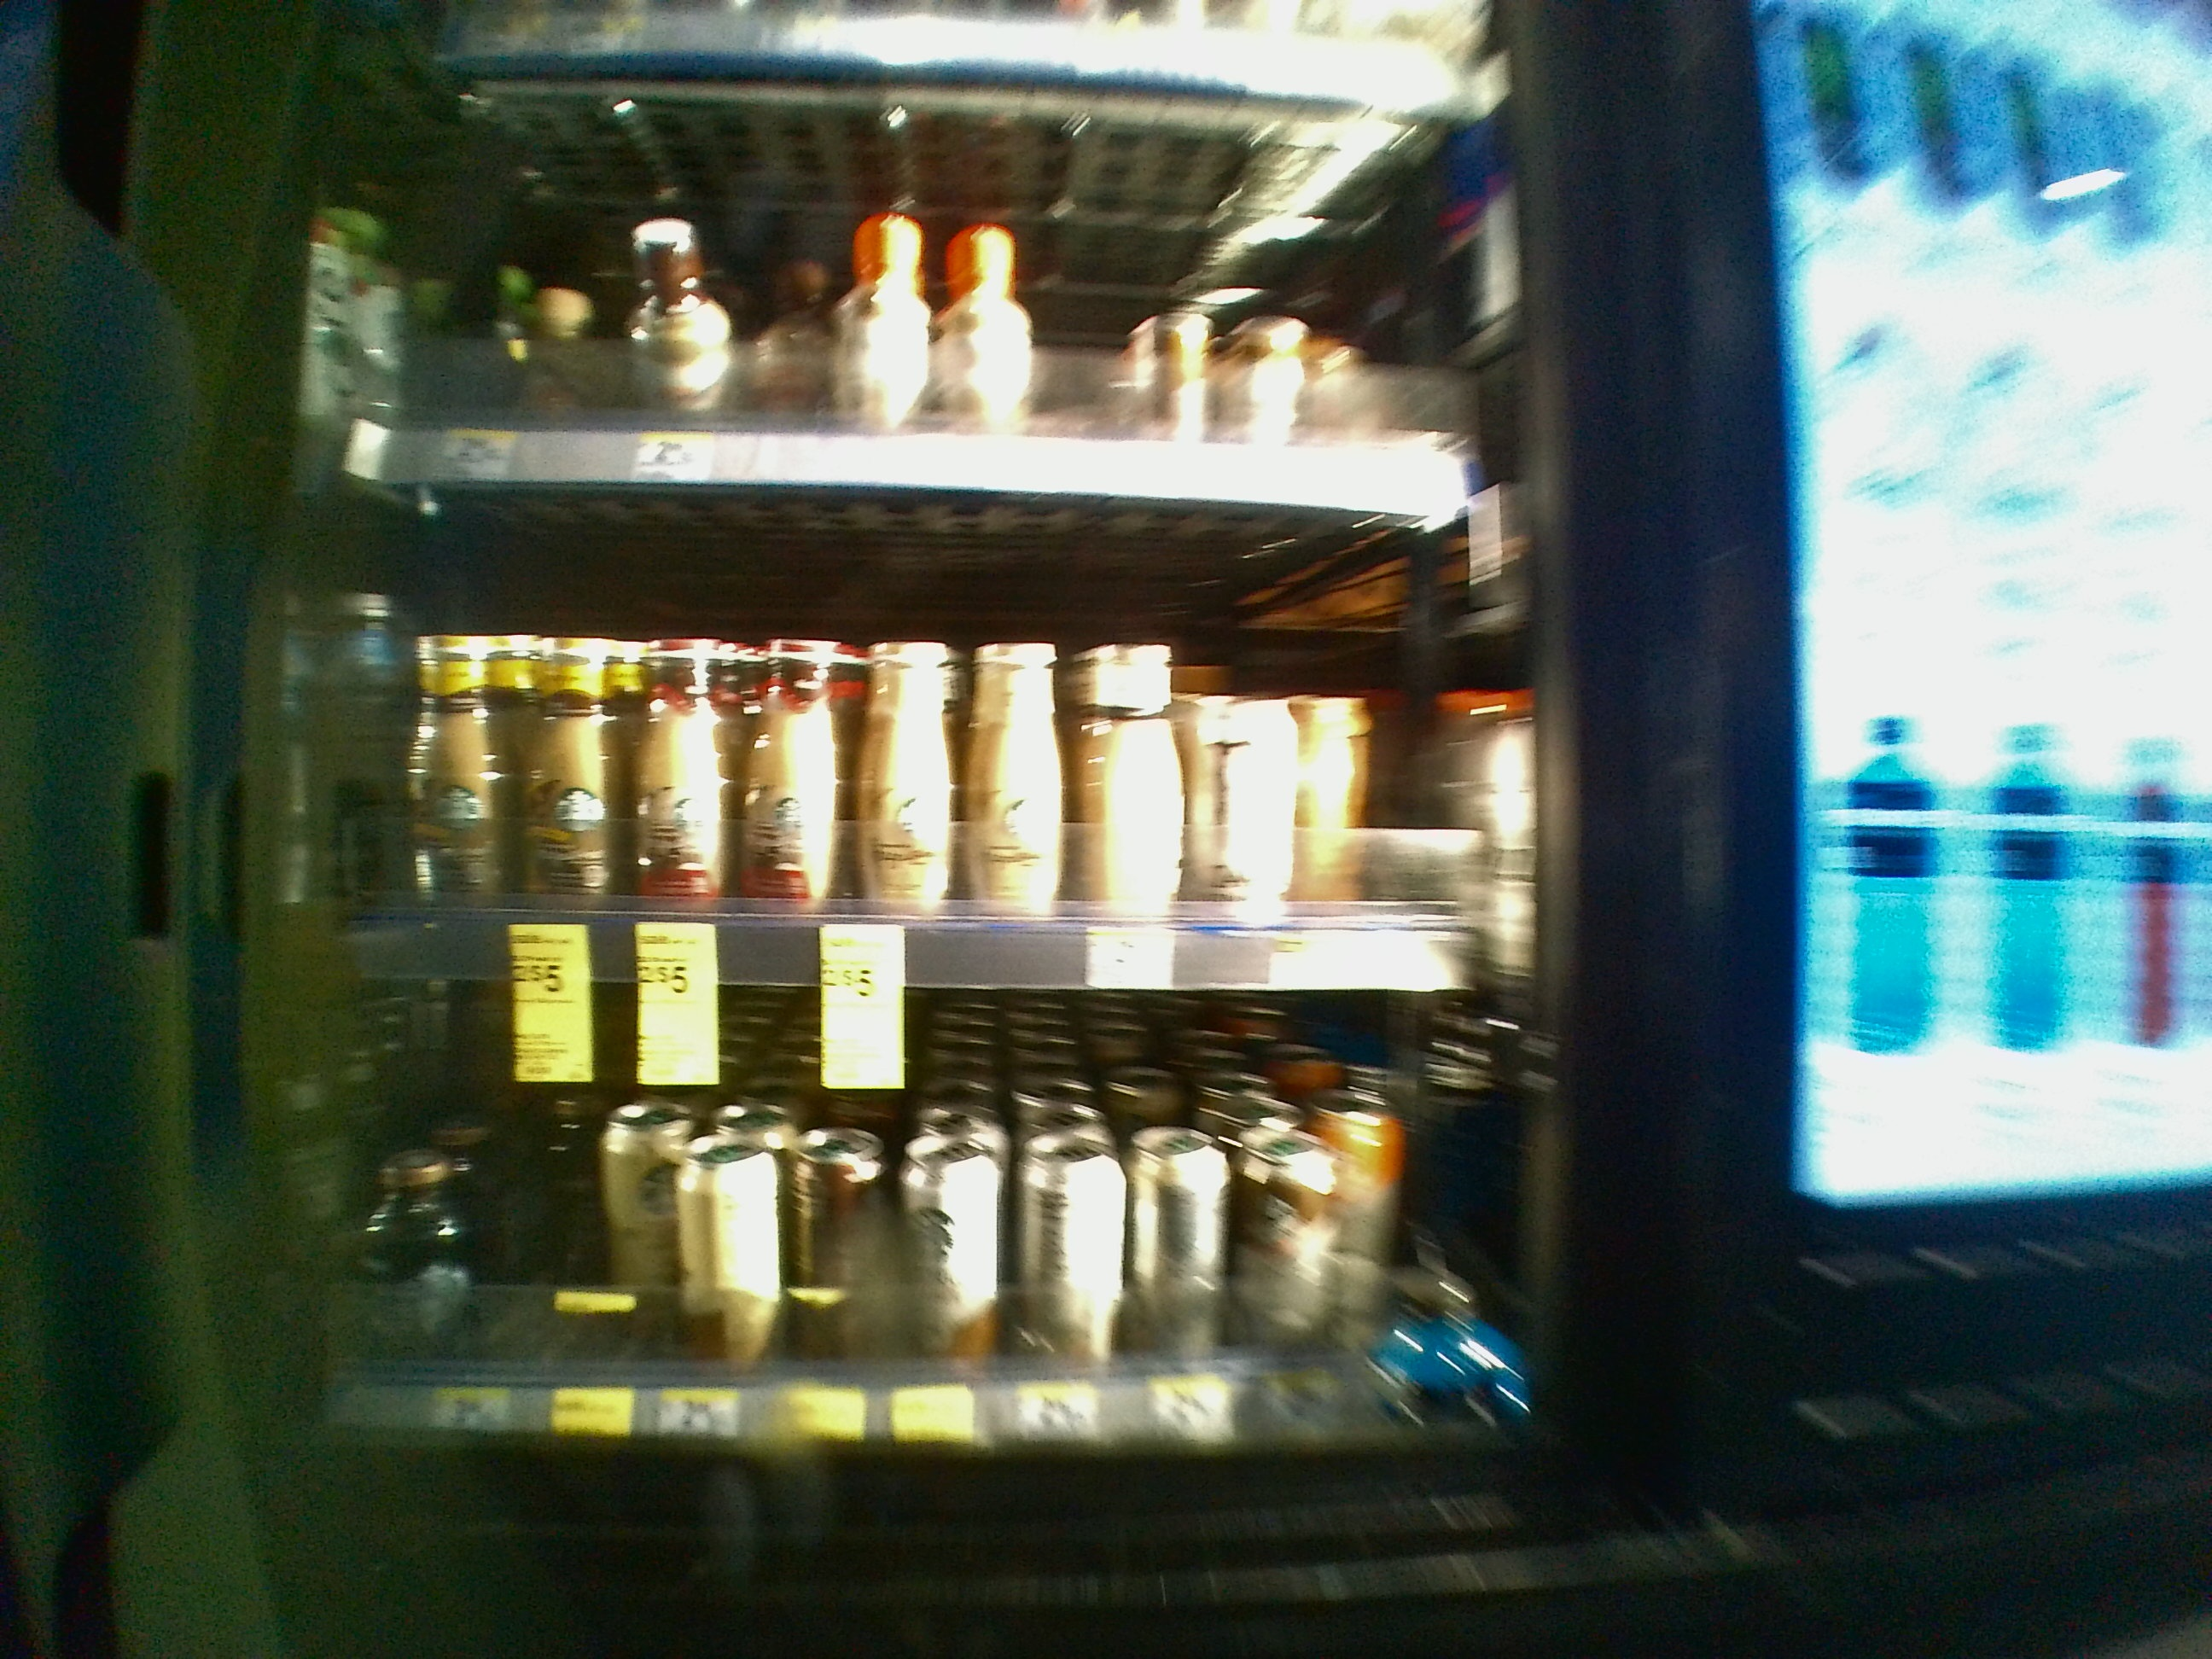shelf: (273, 490, 1559, 990), (268, 986, 1564, 1445)
